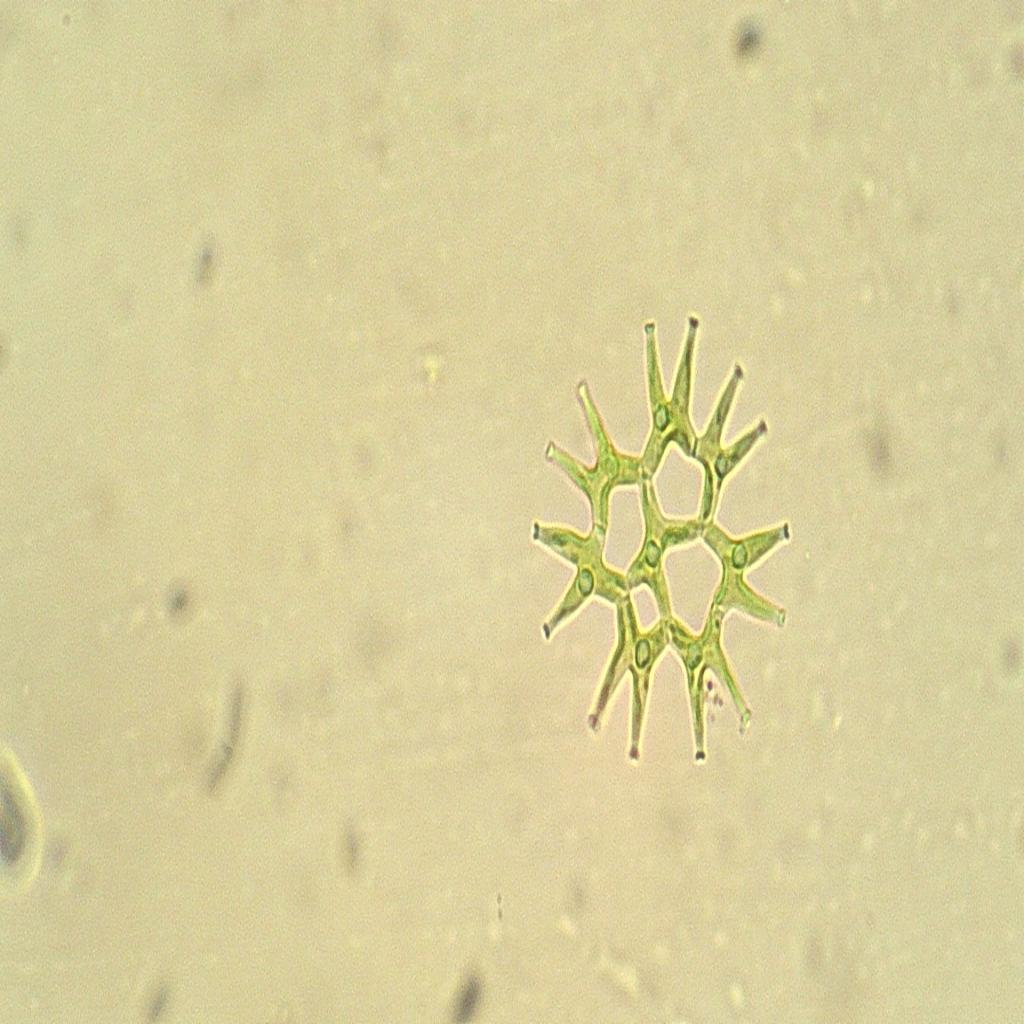Pediastrum_1T: (523, 282, 810, 786)
